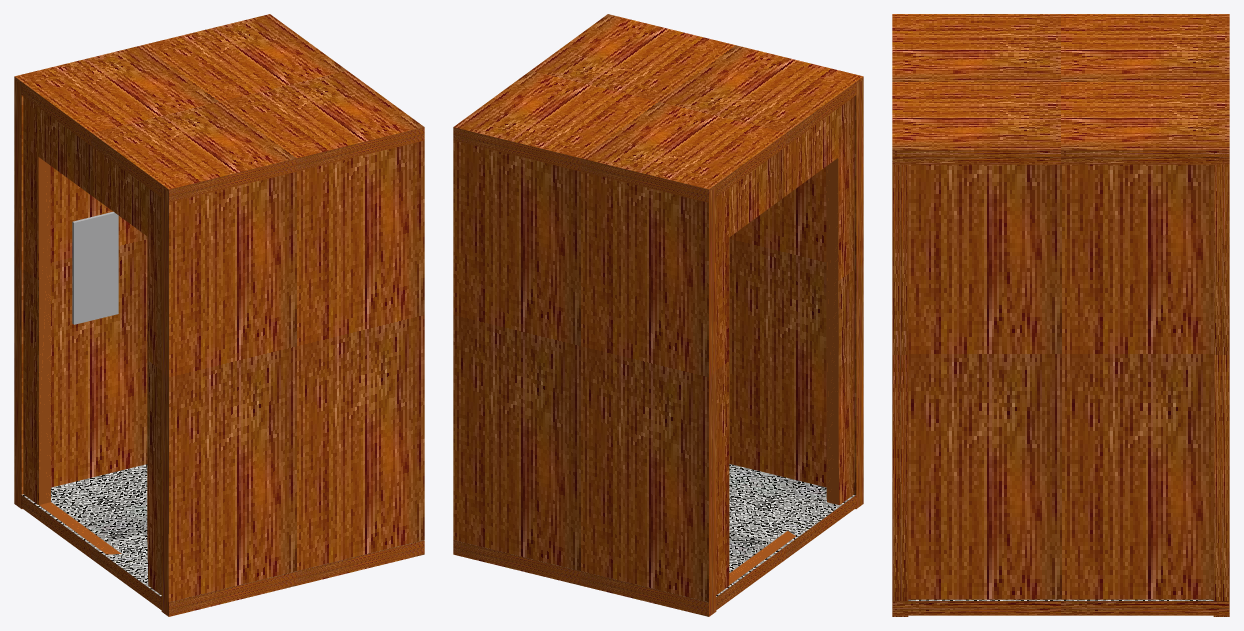
Rendered from clean_lift.glb.
The picture shows the model from 3 angles, left to right: view 1: azimuth 30°, elevation 25°; view 2: azimuth 150°, elevation 25°; view 3: azimuth 270°, elevation 25°; orthographic projection. The views are drawn at different scales.
Parts seen in each view (by area): view 1: Куб.005; view 2: Куб.005; view 3: Куб.005.
Part boxes in pixels (box(x1,y1,x2,y2)): Куб.005: box(14, 14, 424, 616); Куб.005: box(453, 14, 863, 616); Куб.005: box(892, 14, 1229, 616).
Size of the model in its own units: 11.49 by 18.36 by 12.04.
3 materials, 2 textured.
